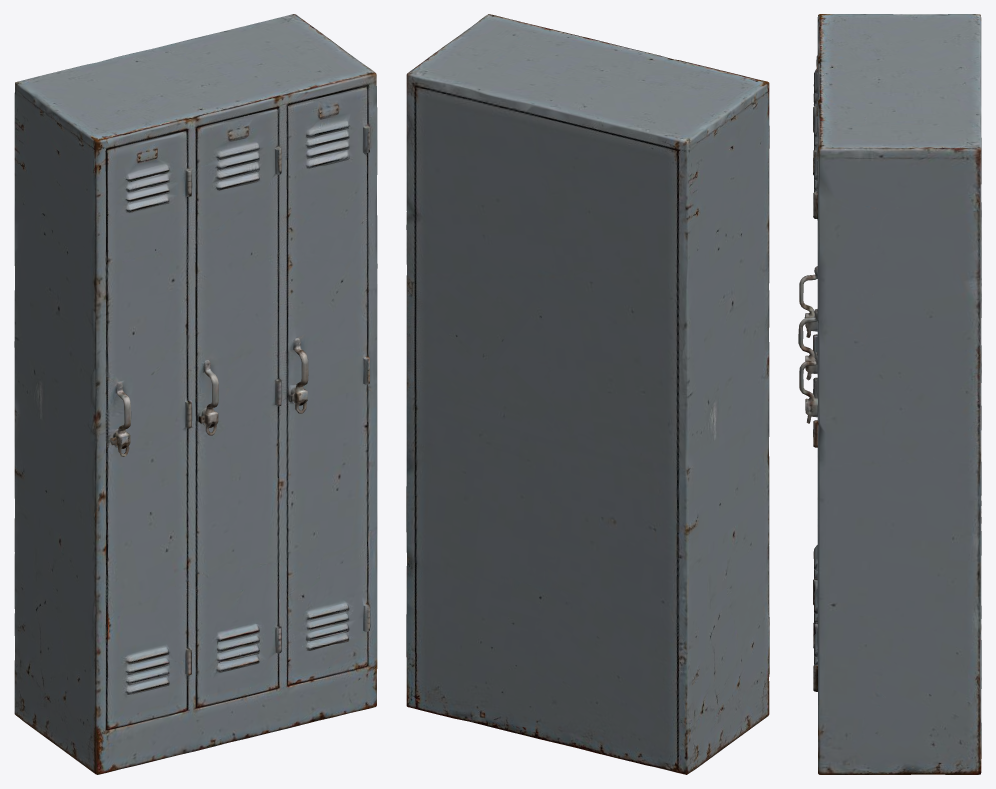
Rendered from lockers.glb.
3 views of the same model, side by side, from view 1: azimuth 30°, elevation 25°; view 2: azimuth 150°, elevation 25°; view 3: azimuth 270°, elevation 25° (orthographic).
Parts seen in each view (by area): view 1: tripo_node_667f19e3-b1d1-4e92-afc4-e5134c1db3f0; view 2: tripo_node_667f19e3-b1d1-4e92-afc4-e5134c1db3f0; view 3: tripo_node_667f19e3-b1d1-4e92-afc4-e5134c1db3f0.
Boxes of the visible parts, bbox=[...] form: tripo_node_667f19e3-b1d1-4e92-afc4-e5134c1db3f0: bbox=[14, 14, 377, 774]; tripo_node_667f19e3-b1d1-4e92-afc4-e5134c1db3f0: bbox=[406, 14, 769, 774]; tripo_node_667f19e3-b1d1-4e92-afc4-e5134c1db3f0: bbox=[798, 14, 981, 774].
Bounding box in the file's own units: 0.8606 × 1.85 × 0.4899.
1 material, 1 textured.
